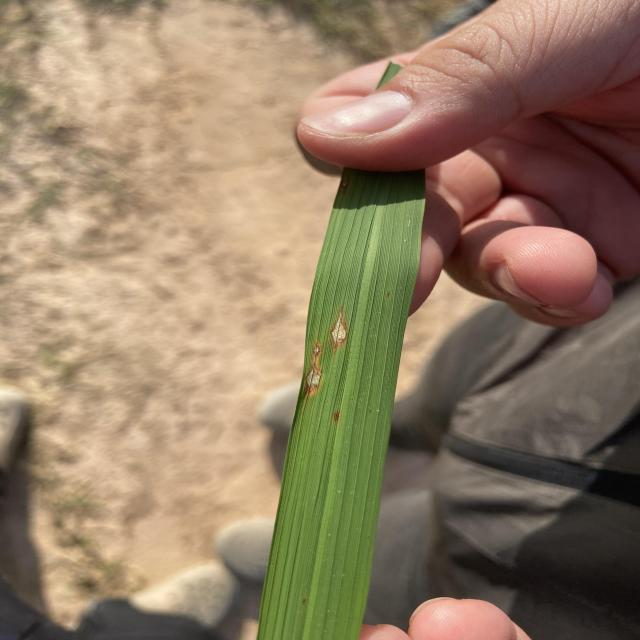Dao on: (305, 342, 322, 394), (331, 311, 346, 347), (339, 176, 349, 190)
